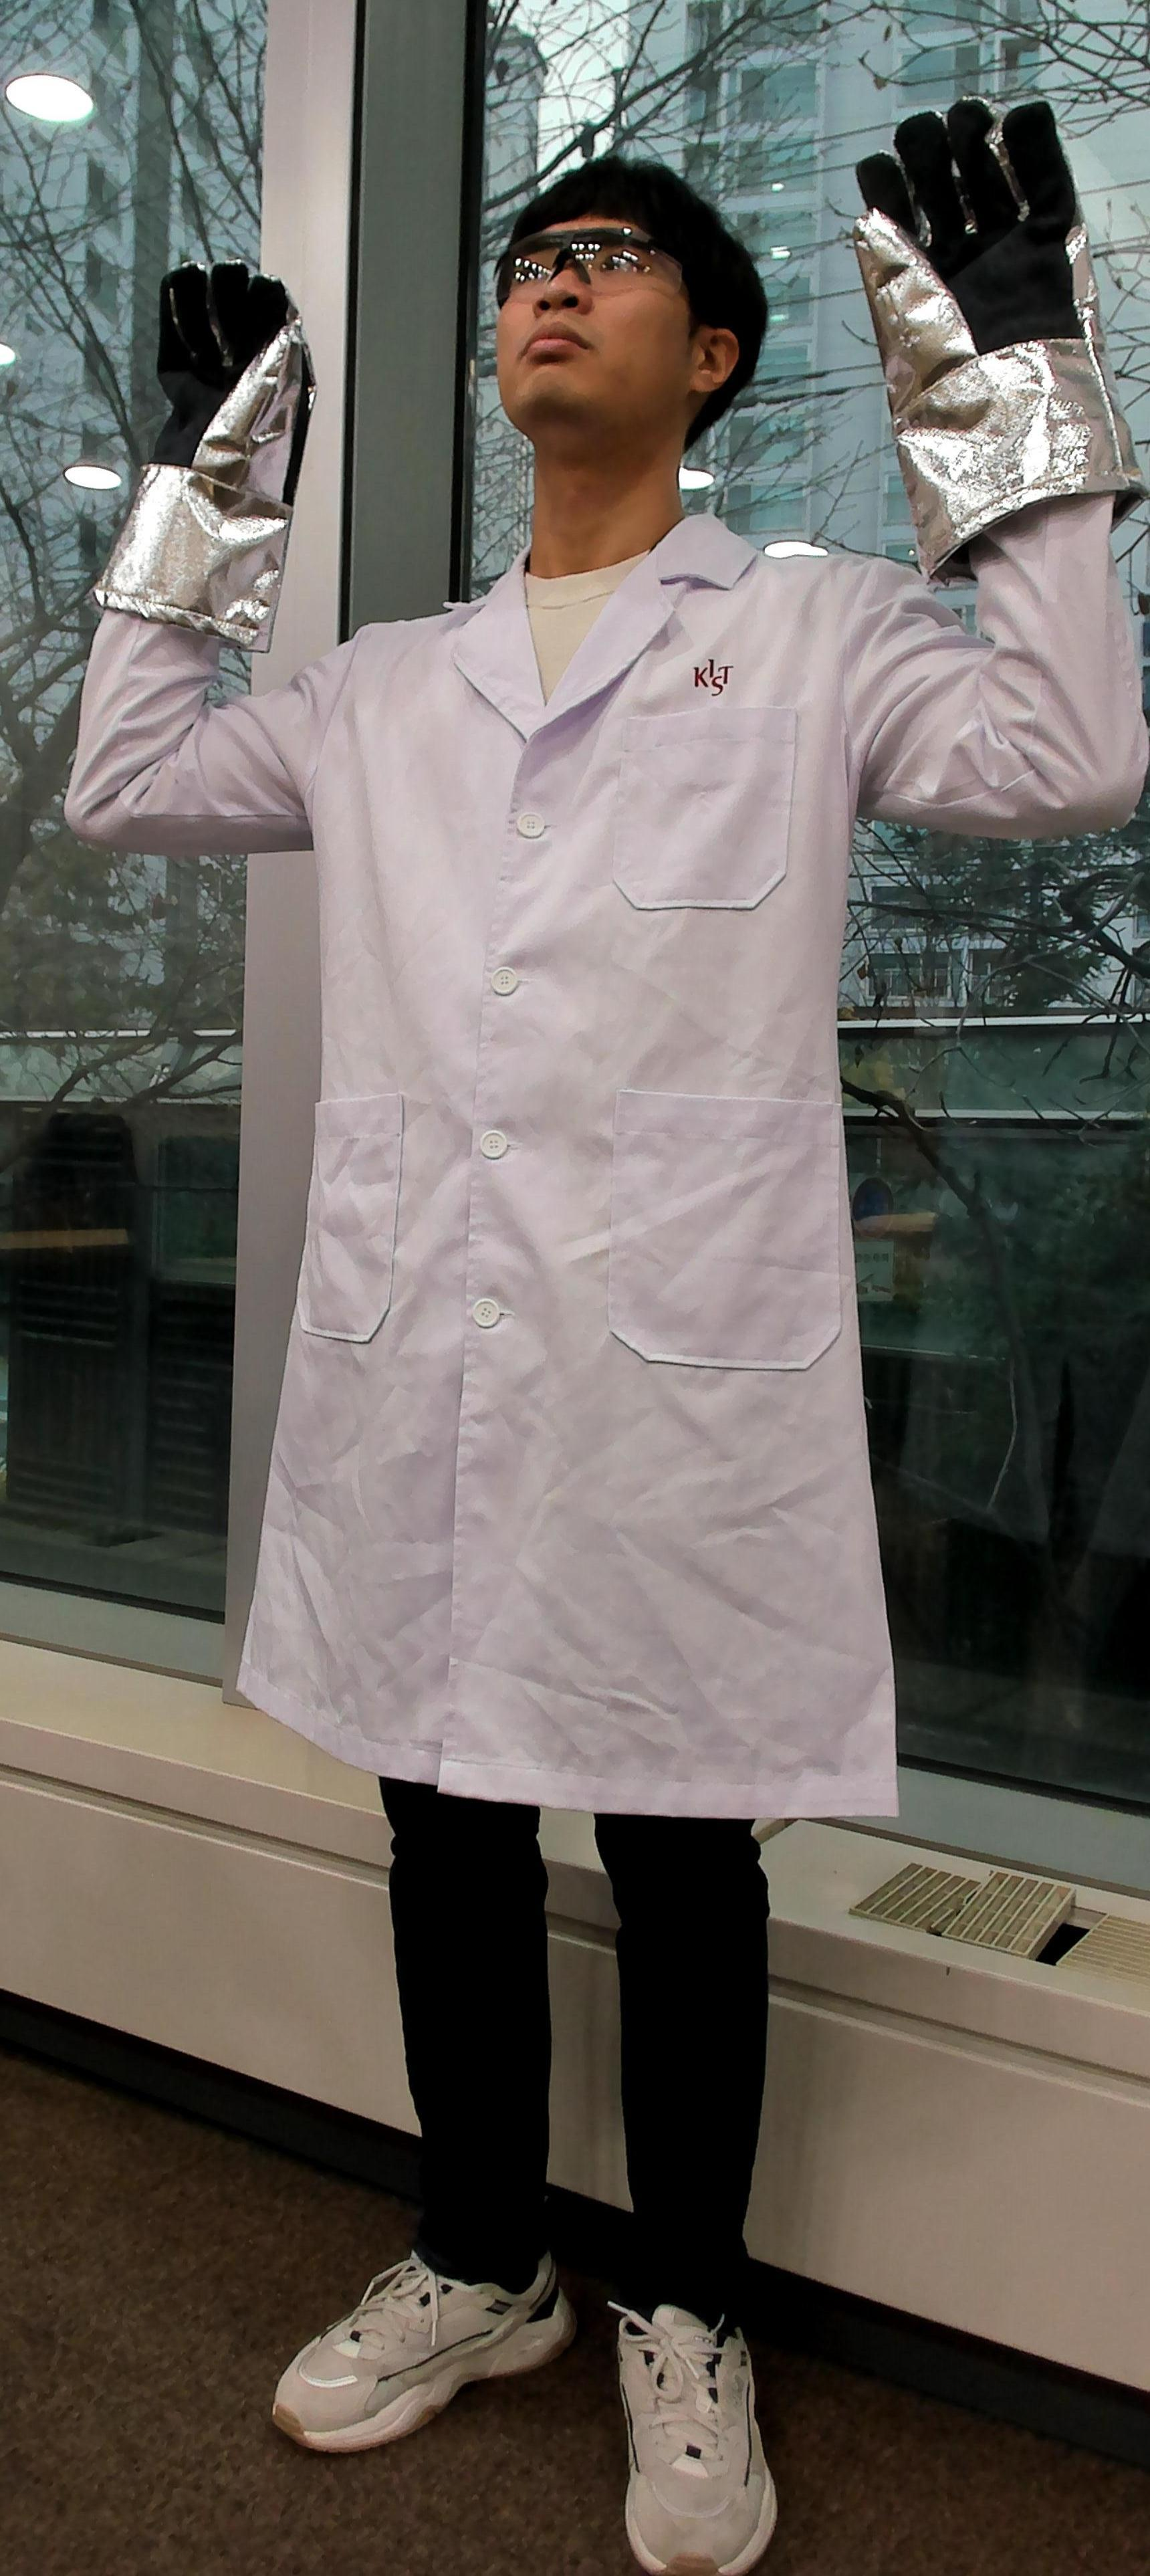lab_coat: (294, 557, 871, 1789)
